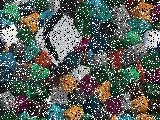Left: (35, 8, 83, 66)
